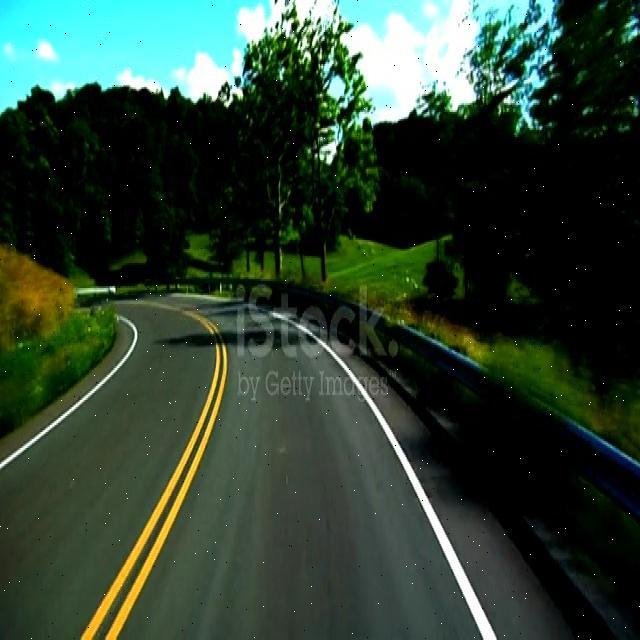lane: (316, 341, 496, 640), (81, 314, 228, 640), (1, 316, 138, 470)
road: (0, 299, 478, 636), (345, 356, 569, 636)
